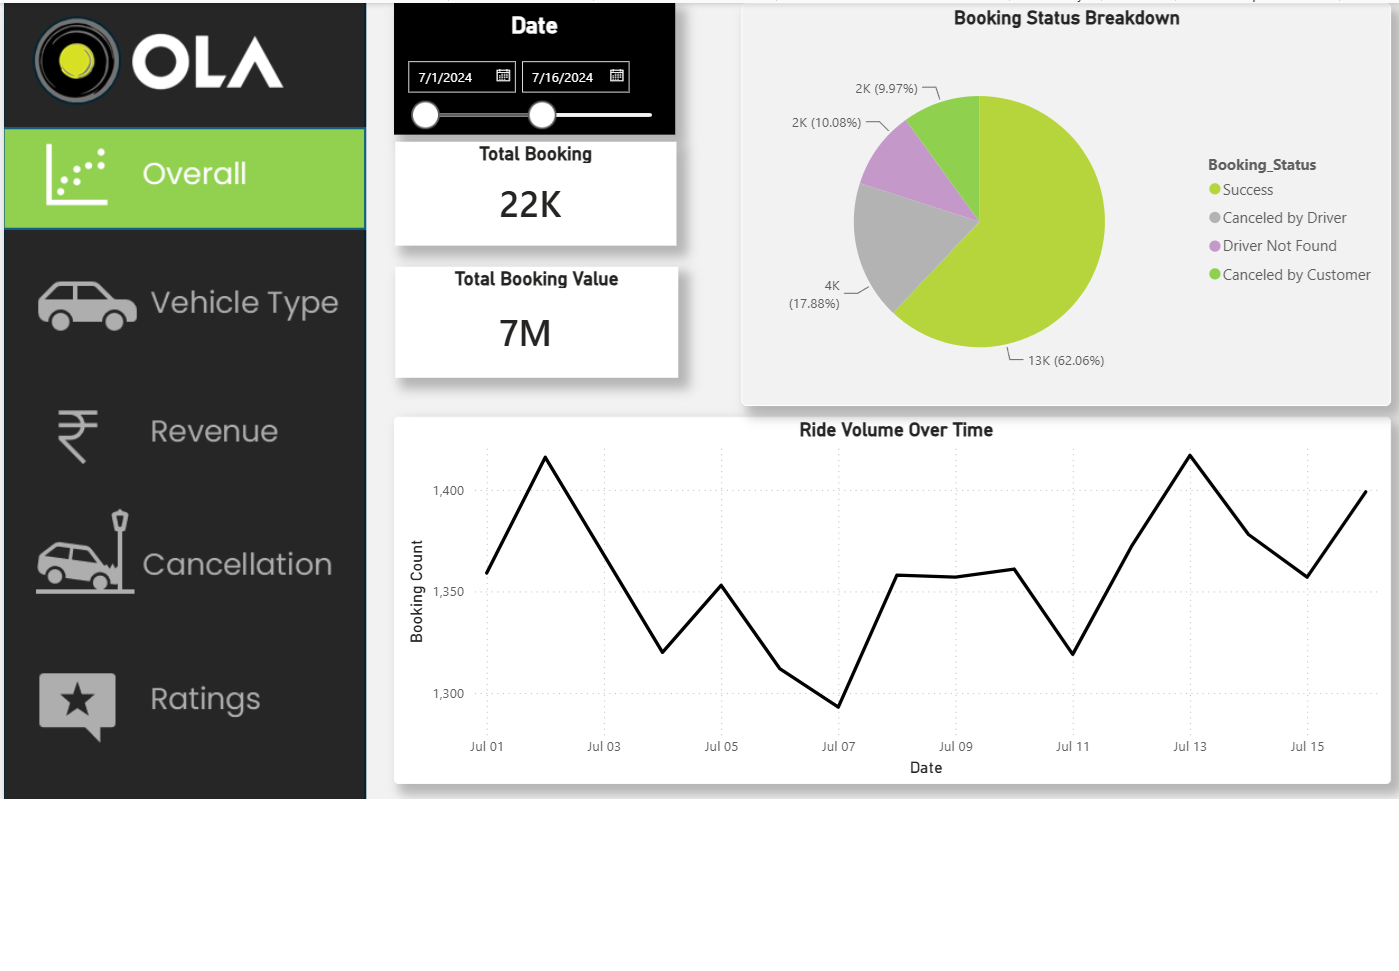

The dashboard page shown, as its layout file describes it:
{"tool":"powerbi","page":{"name":"OVERALL","canvas":[1280,720],"ordinal":0},"visuals":[{"type":"actionButton","box":[0,225.6,321.6,93.8],"z":0},{"type":"actionButton","box":[0,235.6,321.6,93.8],"z":1000},{"type":"actionButton","box":[0,335,321.6,93.8],"z":2000},{"type":"actionButton","box":[0,451.1,321.6,93.8],"z":3000},{"type":"actionButton","box":[0,580.6,321.6,93.8],"z":4000},{"type":"lineChart","title":"Ride Volume Over Time","fields":{"Y":["CountNonNull(July.Booking_ID)"],"Category":["July.Date"]},"box":[348,370,890,328],"z":5000},{"type":"pieChart","title":" Booking Status Breakdown","fields":{"Category":["July.Booking_Status"],"Y":["CountNonNull(July.Booking_ID)"]},"box":[658.3,0,580,360],"z":6000},{"type":"slicer","title":"Date","fields":{"Values":["July.Date"]},"box":[348.9,0,251.1,117.8],"z":7000},{"type":"cardVisual","title":"Total Booking","fields":{"Data":["CountNonNull(July.Booking_ID)"]},"box":[349.1,123.6,250.9,92.7],"z":8000},{"type":"cardVisual","title":"Total Booking Value","fields":{"Data":["Sum(July.Booking_Value)"]},"box":[349.1,235.5,252.7,99.1],"z":9000}]}

Visuals, with their boxes on the page's 1280x720 design canvas (x1, y1, x2, y2). These are canvas units, not pixel positions in the 1399x971 screenshot, which may show the page scaled, cropped or inside an application window:
actionButton: bbox=(0, 226, 322, 319)
actionButton: bbox=(0, 236, 322, 329)
actionButton: bbox=(0, 335, 322, 429)
actionButton: bbox=(0, 451, 322, 545)
actionButton: bbox=(0, 581, 322, 674)
"Ride Volume Over Time" lineChart: bbox=(348, 370, 1238, 698)
" Booking Status Breakdown" pieChart: bbox=(658, 0, 1238, 360)
"Date" slicer: bbox=(349, 0, 600, 118)
"Total Booking" cardVisual: bbox=(349, 124, 600, 216)
"Total Booking Value" cardVisual: bbox=(349, 236, 602, 335)
